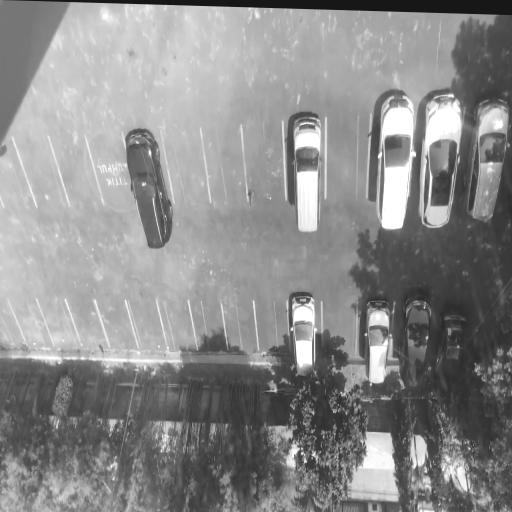Car: (417, 90, 467, 233), (122, 126, 179, 251), (463, 95, 512, 230), (374, 93, 418, 232), (291, 114, 322, 237), (429, 303, 471, 389), (398, 293, 434, 389), (289, 293, 318, 381), (366, 298, 394, 385)
Space Available: (325, 113, 371, 200), (199, 124, 250, 202), (13, 137, 69, 208), (241, 122, 286, 207), (161, 130, 212, 203), (49, 136, 103, 204), (86, 132, 133, 207), (0, 140, 35, 207), (91, 298, 138, 347), (7, 297, 53, 347), (35, 299, 82, 346), (65, 299, 109, 348), (220, 298, 259, 352), (187, 299, 227, 351), (124, 298, 167, 346), (322, 301, 357, 359), (157, 299, 197, 349), (254, 296, 289, 352), (1, 300, 27, 347)
